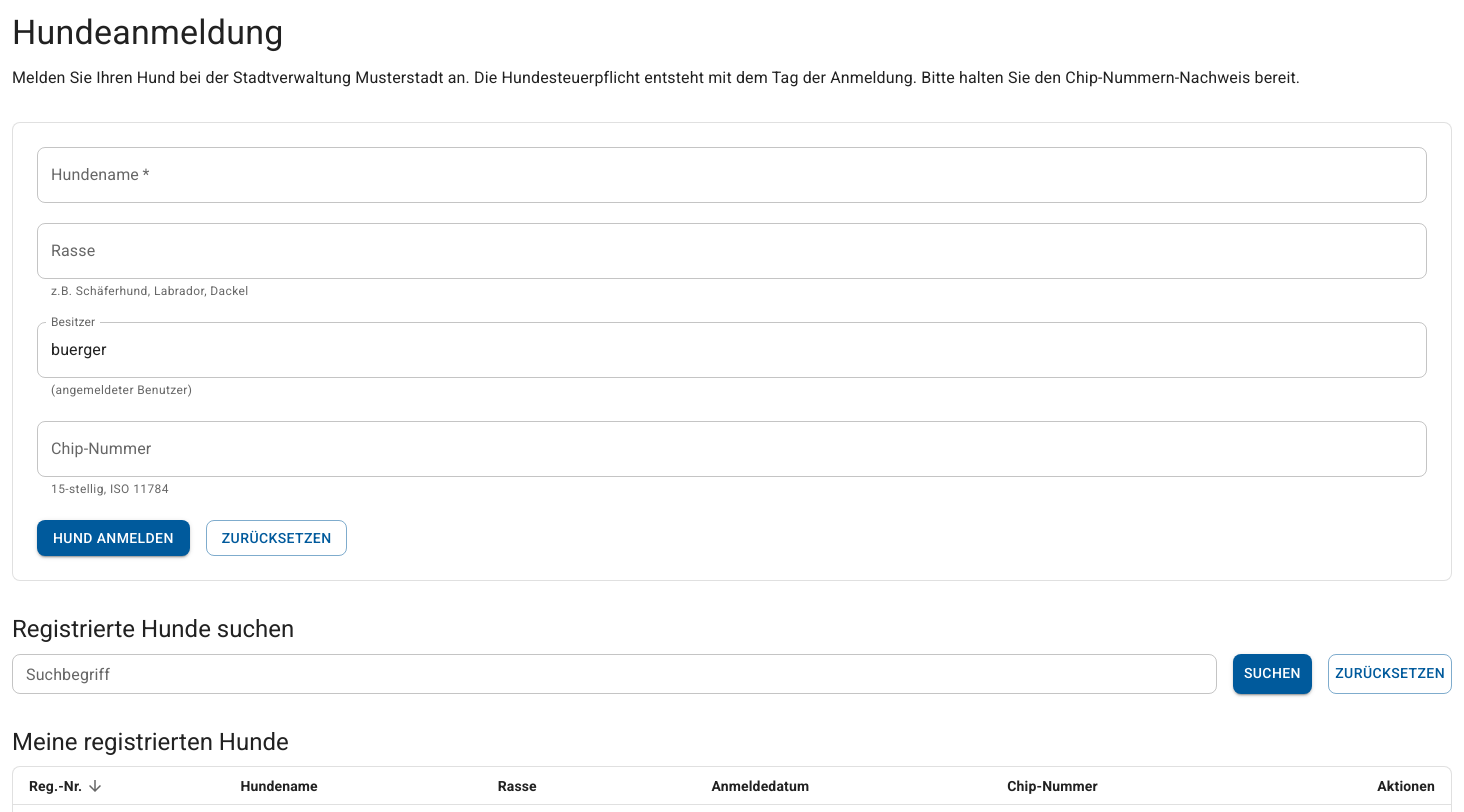
Test: DogRegistrationPage › registers a dog and shows the registration number
This screenshot has width=1464, height=812.
In the field labelled "Hundename *": (732, 175) [37,147,1427,203], type "Luna"
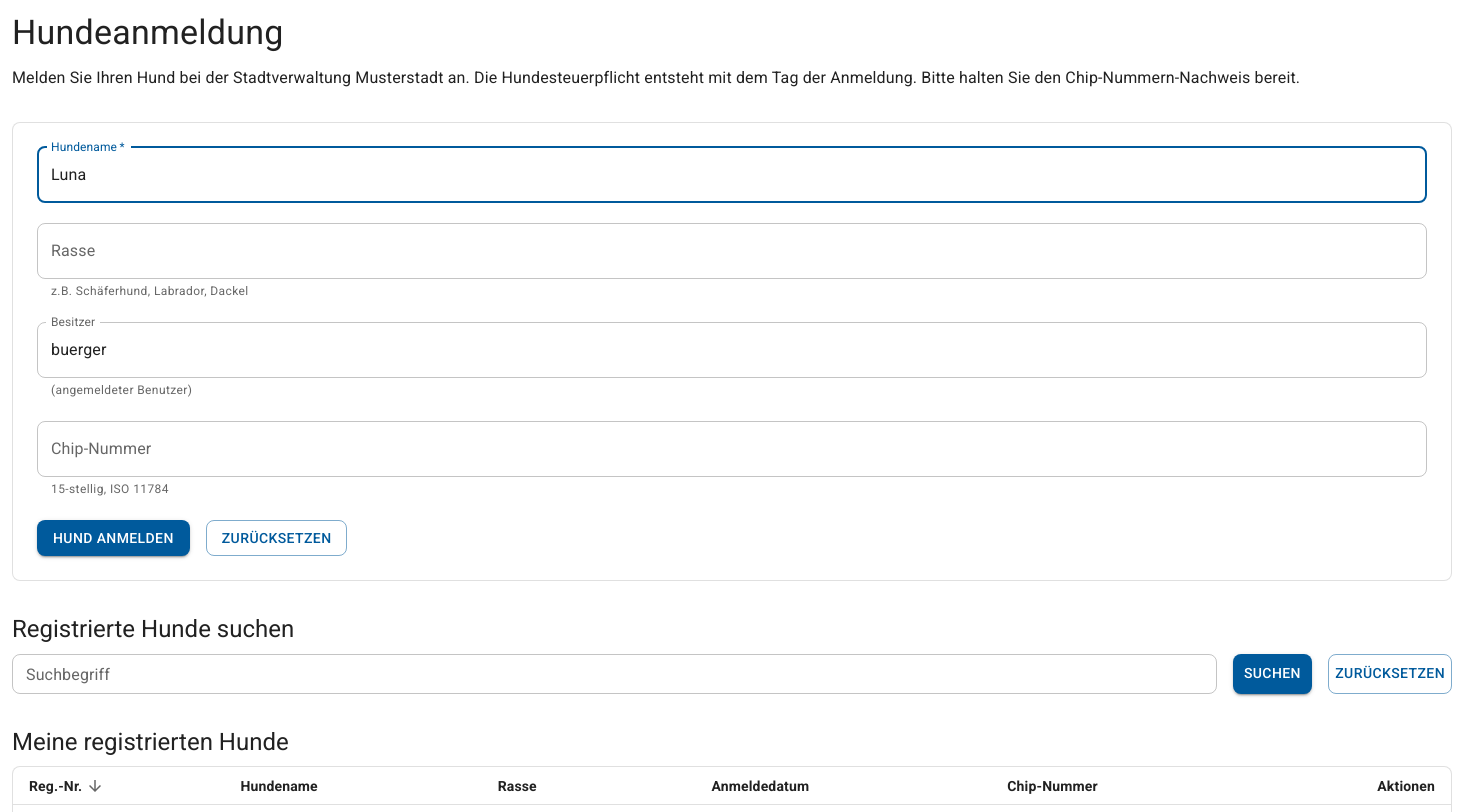
Click the button "Hund anmelden": click(113, 538) [37,520,190,556]
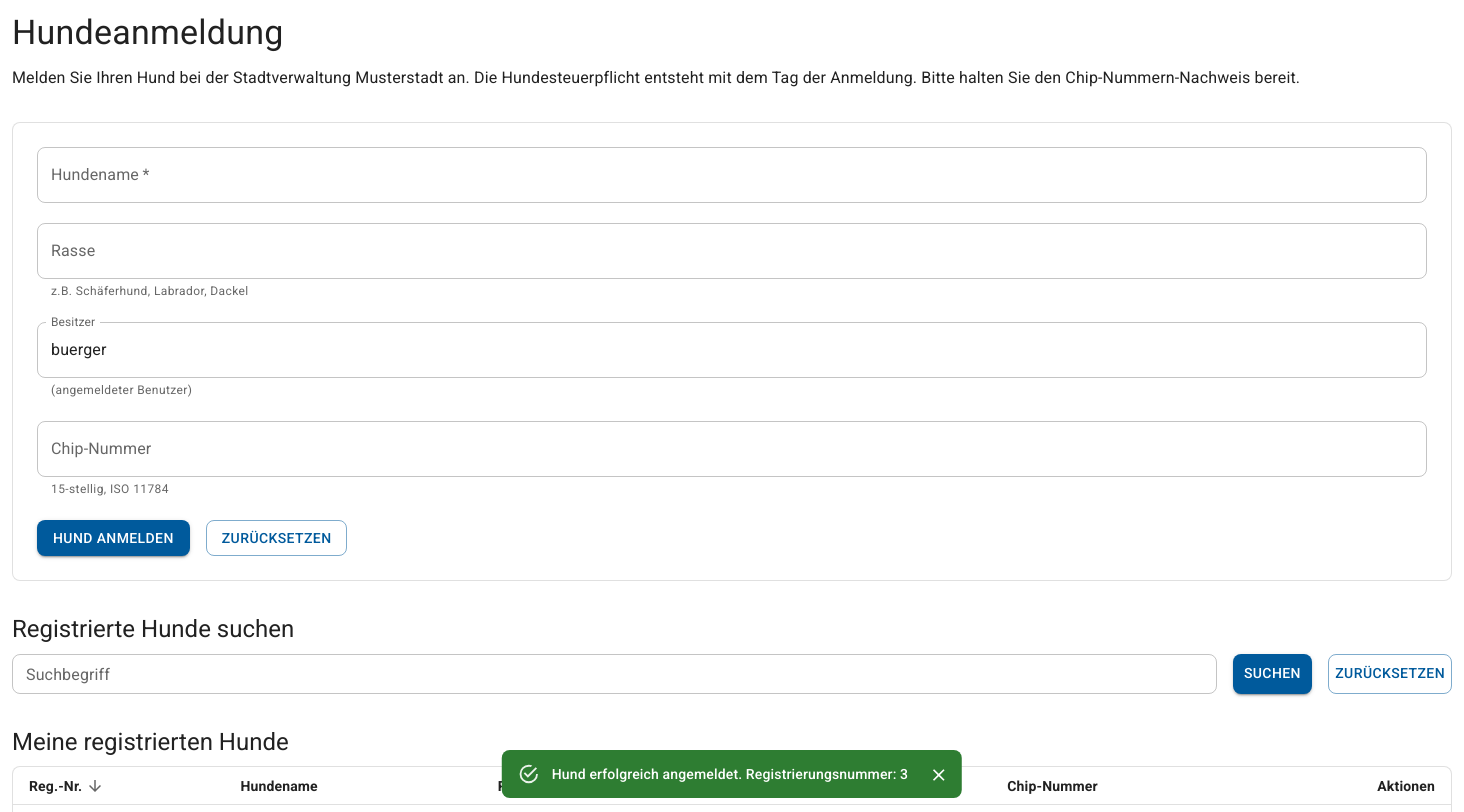
Expected: the text "Hund erfolgreich angemeldet. Registrierungsnummer: 3" is shown, [552,766,908,782]
